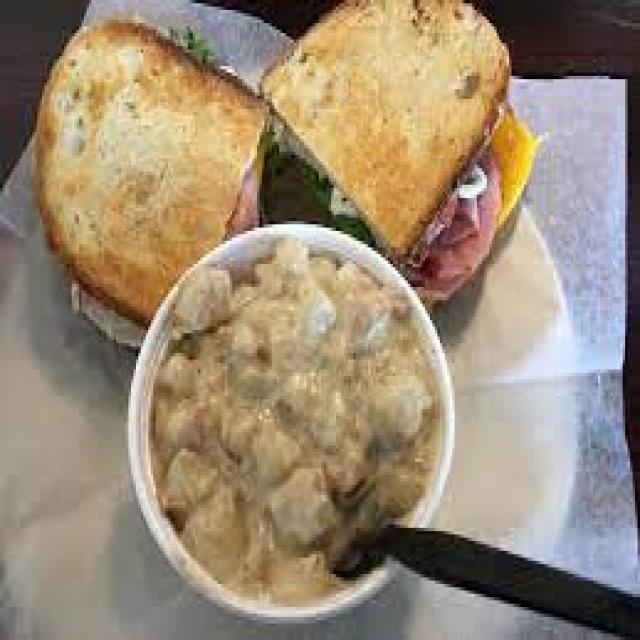Sandwich: (31, 11, 538, 314)
